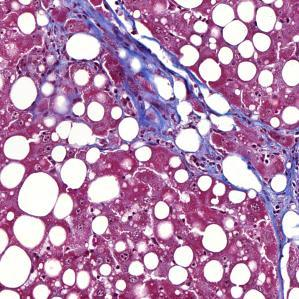fibrosis: (173, 124, 299, 204), (106, 39, 200, 113)
